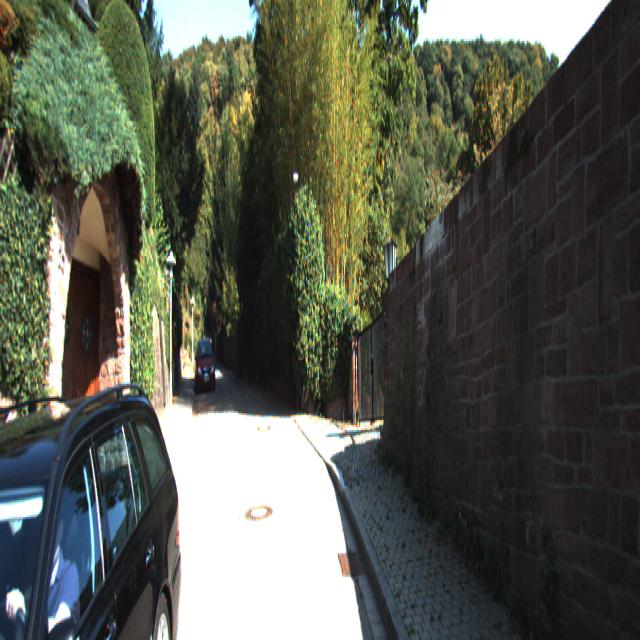Car: (0, 360, 182, 638), (196, 332, 216, 393)
